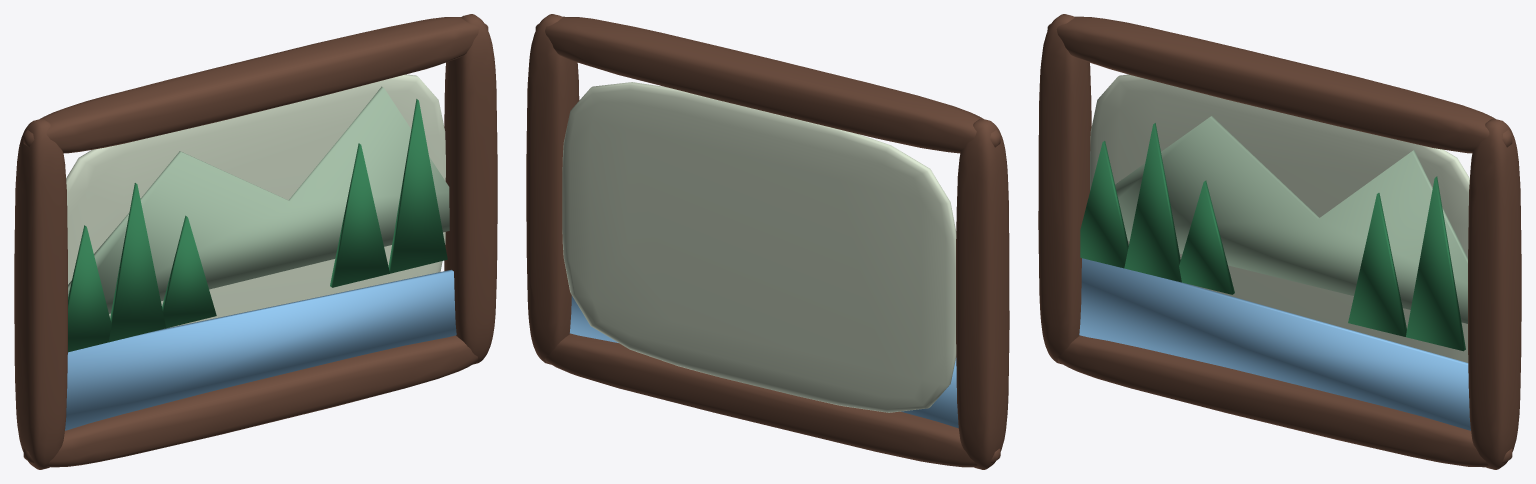
The model's file is deco_cuadro_pinos.glb.
3 views of the same model, side by side, from view 1: azimuth 30°, elevation 25°; view 2: azimuth 150°, elevation 25°; view 3: azimuth 330°, elevation 25° (orthographic).
Visible parts, largest first — view 1: lago.001, montaña atrás.001, lienzo.018, marco horizontal.037, marco horizontal.036, marco vertical.036, marco vertical.037, pino 4.001, pino 1.001, pino 3.001, pino 0.001, pino 2.001; view 2: lienzo.018, marco horizontal.037, marco vertical.036, marco horizontal.036, marco vertical.037, lago.001; view 3: lago.001, lienzo.018, montaña atrás.001, marco horizontal.037, marco horizontal.036, marco vertical.037, marco vertical.036, pino 4.001, pino 1.001, pino 3.001, pino 0.001, pino 2.001.
Part boxes in pixels (x1,y1,x2,y2): lago.001: [65, 269, 456, 430]; montaña atrás.001: [68, 86, 449, 313]; lienzo.018: [66, 74, 445, 327]; marco horizontal.037: [23, 17, 488, 153]; marco horizontal.036: [23, 335, 478, 467]; marco vertical.036: [14, 118, 67, 469]; marco vertical.037: [444, 14, 497, 364]; pino 4.001: [388, 99, 447, 273]; pino 1.001: [108, 183, 165, 342]; pino 3.001: [330, 143, 389, 287]; pino 0.001: [68, 225, 111, 352]; pino 2.001: [162, 215, 216, 328]; lienzo.018: [562, 82, 956, 412]; marco horizontal.037: [535, 16, 1000, 153]; marco vertical.036: [956, 118, 1009, 469]; marco horizontal.036: [544, 333, 1000, 467]; marco vertical.037: [526, 14, 579, 364]; lago.001: [570, 295, 958, 427]; lago.001: [1079, 258, 1470, 430]; lienzo.018: [1090, 74, 1469, 362]; montaña atrás.001: [1086, 116, 1467, 323]; marco horizontal.037: [1047, 16, 1512, 153]; marco horizontal.036: [1057, 335, 1512, 467]; marco vertical.037: [1468, 118, 1521, 469]; marco vertical.036: [1038, 14, 1091, 364]; pino 4.001: [1406, 176, 1465, 351]; pino 1.001: [1124, 123, 1181, 282]; pino 3.001: [1348, 193, 1406, 336]; pino 0.001: [1080, 141, 1128, 268]; pino 2.001: [1179, 180, 1234, 294].
Size of the model in its own units: 0.6498 by 0.4695 by 0.0597.
